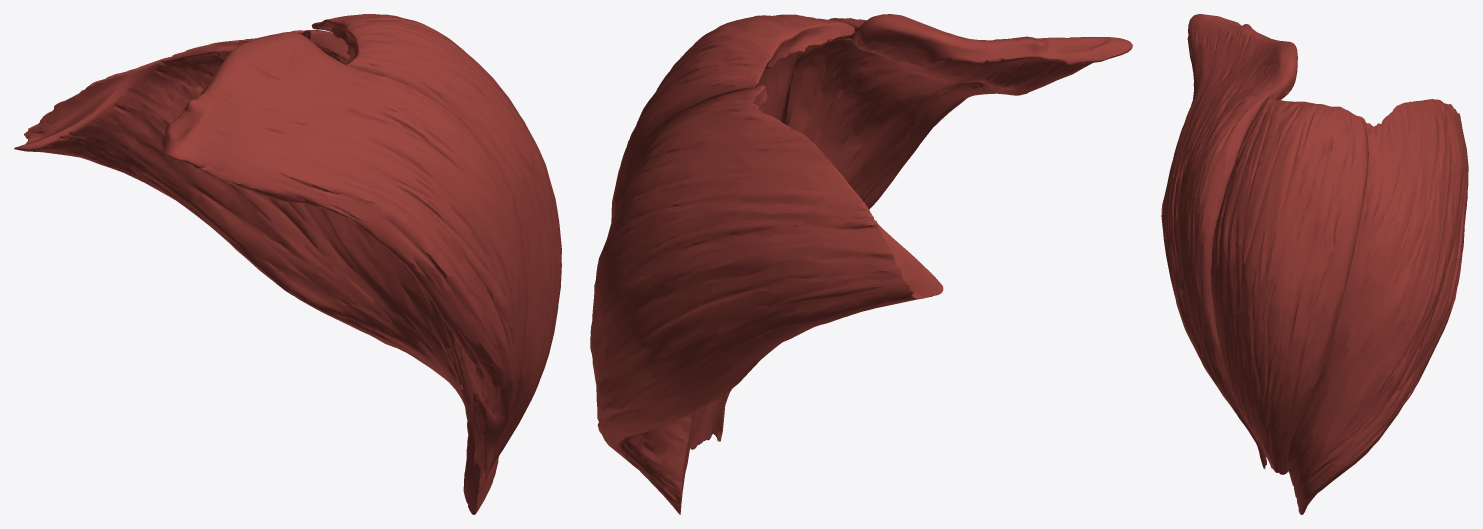
File: explorar-deltoid.glb
3 renders of one model, left to right at view 1: azimuth 30°, elevation 25°; view 2: azimuth 150°, elevation 25°; view 3: azimuth 270°, elevation 25°, orthographic. The views are drawn at different scales.
Visible parts, largest first — view 1: deltoid_left__clavicular, deltoid_left__espinal, deltoid_left__acromial; view 2: deltoid_left__espinal, deltoid_left__clavicular, deltoid_left__acromial; view 3: deltoid_left__acromial, deltoid_left__espinal, deltoid_left__clavicular.
Boxes of the visible parts, x1,y1,x2,y2 form: deltoid_left__clavicular: (162, 32, 527, 480); deltoid_left__espinal: (14, 30, 498, 514); deltoid_left__acromial: (311, 14, 561, 470); deltoid_left__espinal: (590, 85, 943, 514); deltoid_left__clavicular: (717, 14, 1132, 441); deltoid_left__acromial: (611, 14, 854, 449); deltoid_left__acromial: (1211, 96, 1368, 474); deltoid_left__espinal: (1288, 99, 1468, 514); deltoid_left__clavicular: (1161, 14, 1297, 469).
Size of the model in its own units: 0.1455 by 0.1673 by 0.1196.
